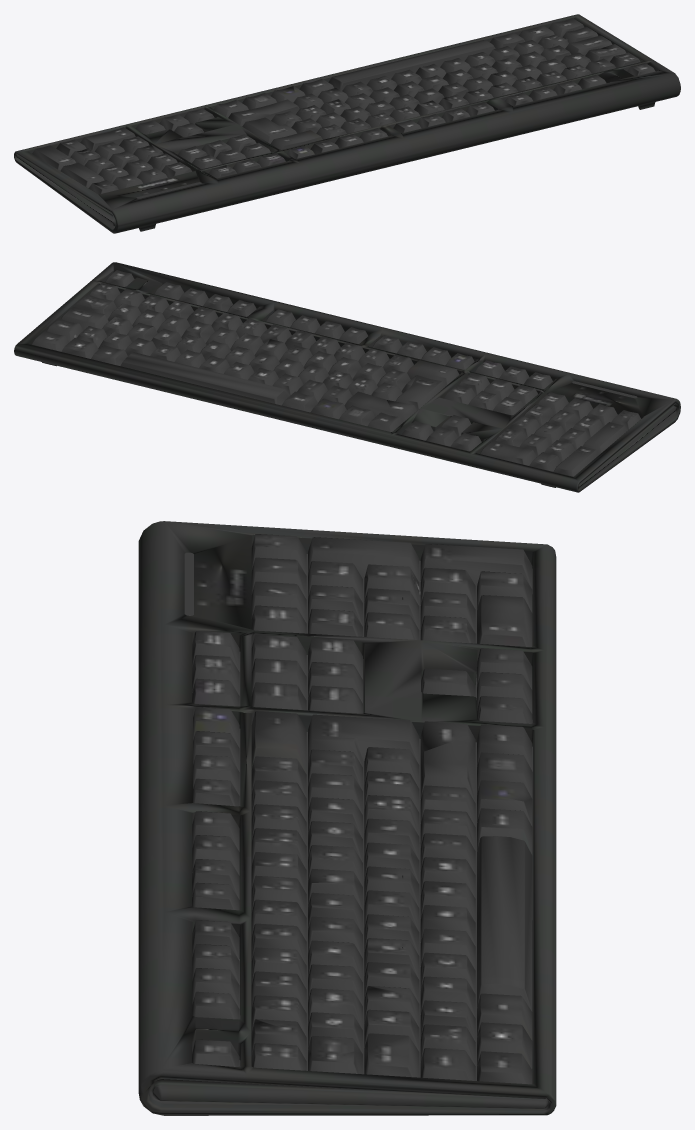
Rendered from computer_keyboard_a01.glb.
3 views of the same model, one above another, from view 1: azimuth 30°, elevation 25°; view 2: azimuth 150°, elevation 25°; view 3: azimuth 270°, elevation 25° (orthographic). The views are drawn at different scales.
Parts seen in each view (by area): view 1: sm_computer_keyboard_a01_mesh_00; view 2: sm_computer_keyboard_a01_mesh_00; view 3: sm_computer_keyboard_a01_mesh_00.
Part boxes in pixels (box(x1,y1,x2,y2)): sm_computer_keyboard_a01_mesh_00: box(14, 14, 680, 233); sm_computer_keyboard_a01_mesh_00: box(14, 262, 680, 492); sm_computer_keyboard_a01_mesh_00: box(138, 521, 556, 1115).
Size of the model in its own units: 0.442 by 0.0201 by 0.1419.
1 material, 1 textured.
